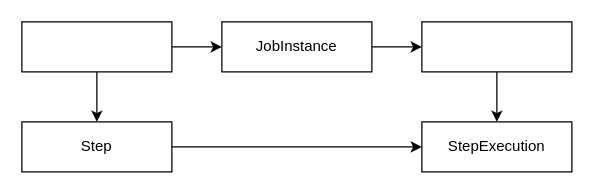
The diagram is 594 pixels wide and 194 high, and some of its shapes have lost their labels. The shapes that lost their labels are listed below. From the top down, each one's box as (x1, y1, x2, y2) in pixels, then its label:
(21, 21, 172, 72): Job
(421, 21, 572, 72): JobExecution
